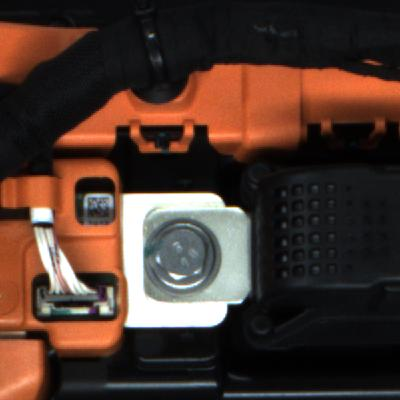nut_b: (142, 214, 251, 302)
